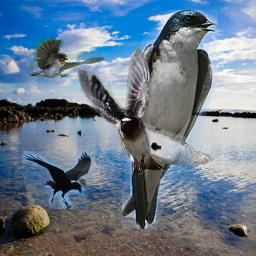Crow: (22, 151, 92, 209)
Swallow: (122, 10, 218, 229), (78, 46, 166, 175), (29, 38, 105, 78)
